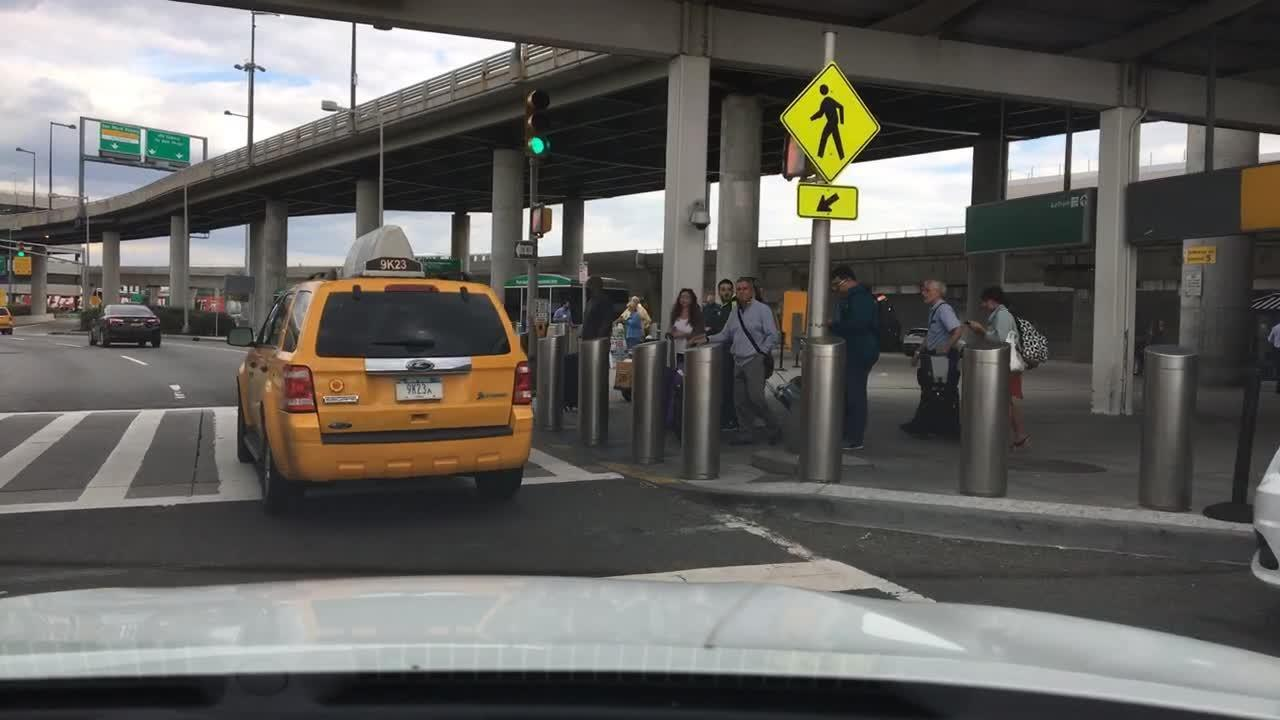ford: (402, 358, 441, 374)
